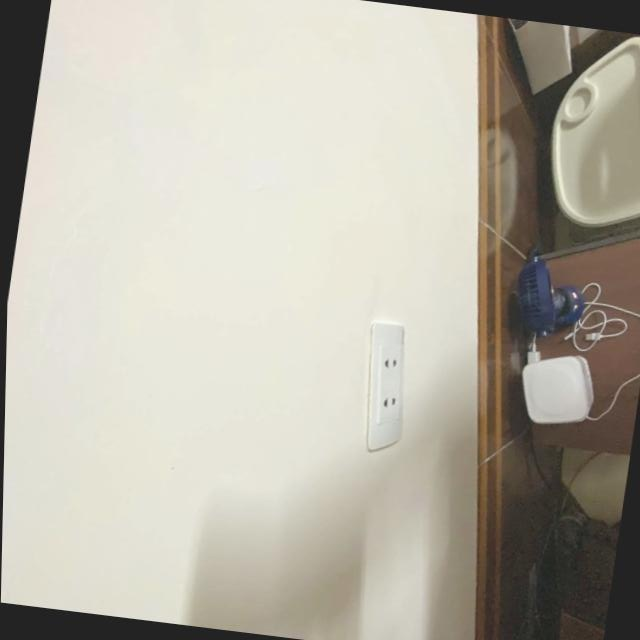outlet: (352, 321, 418, 456)
